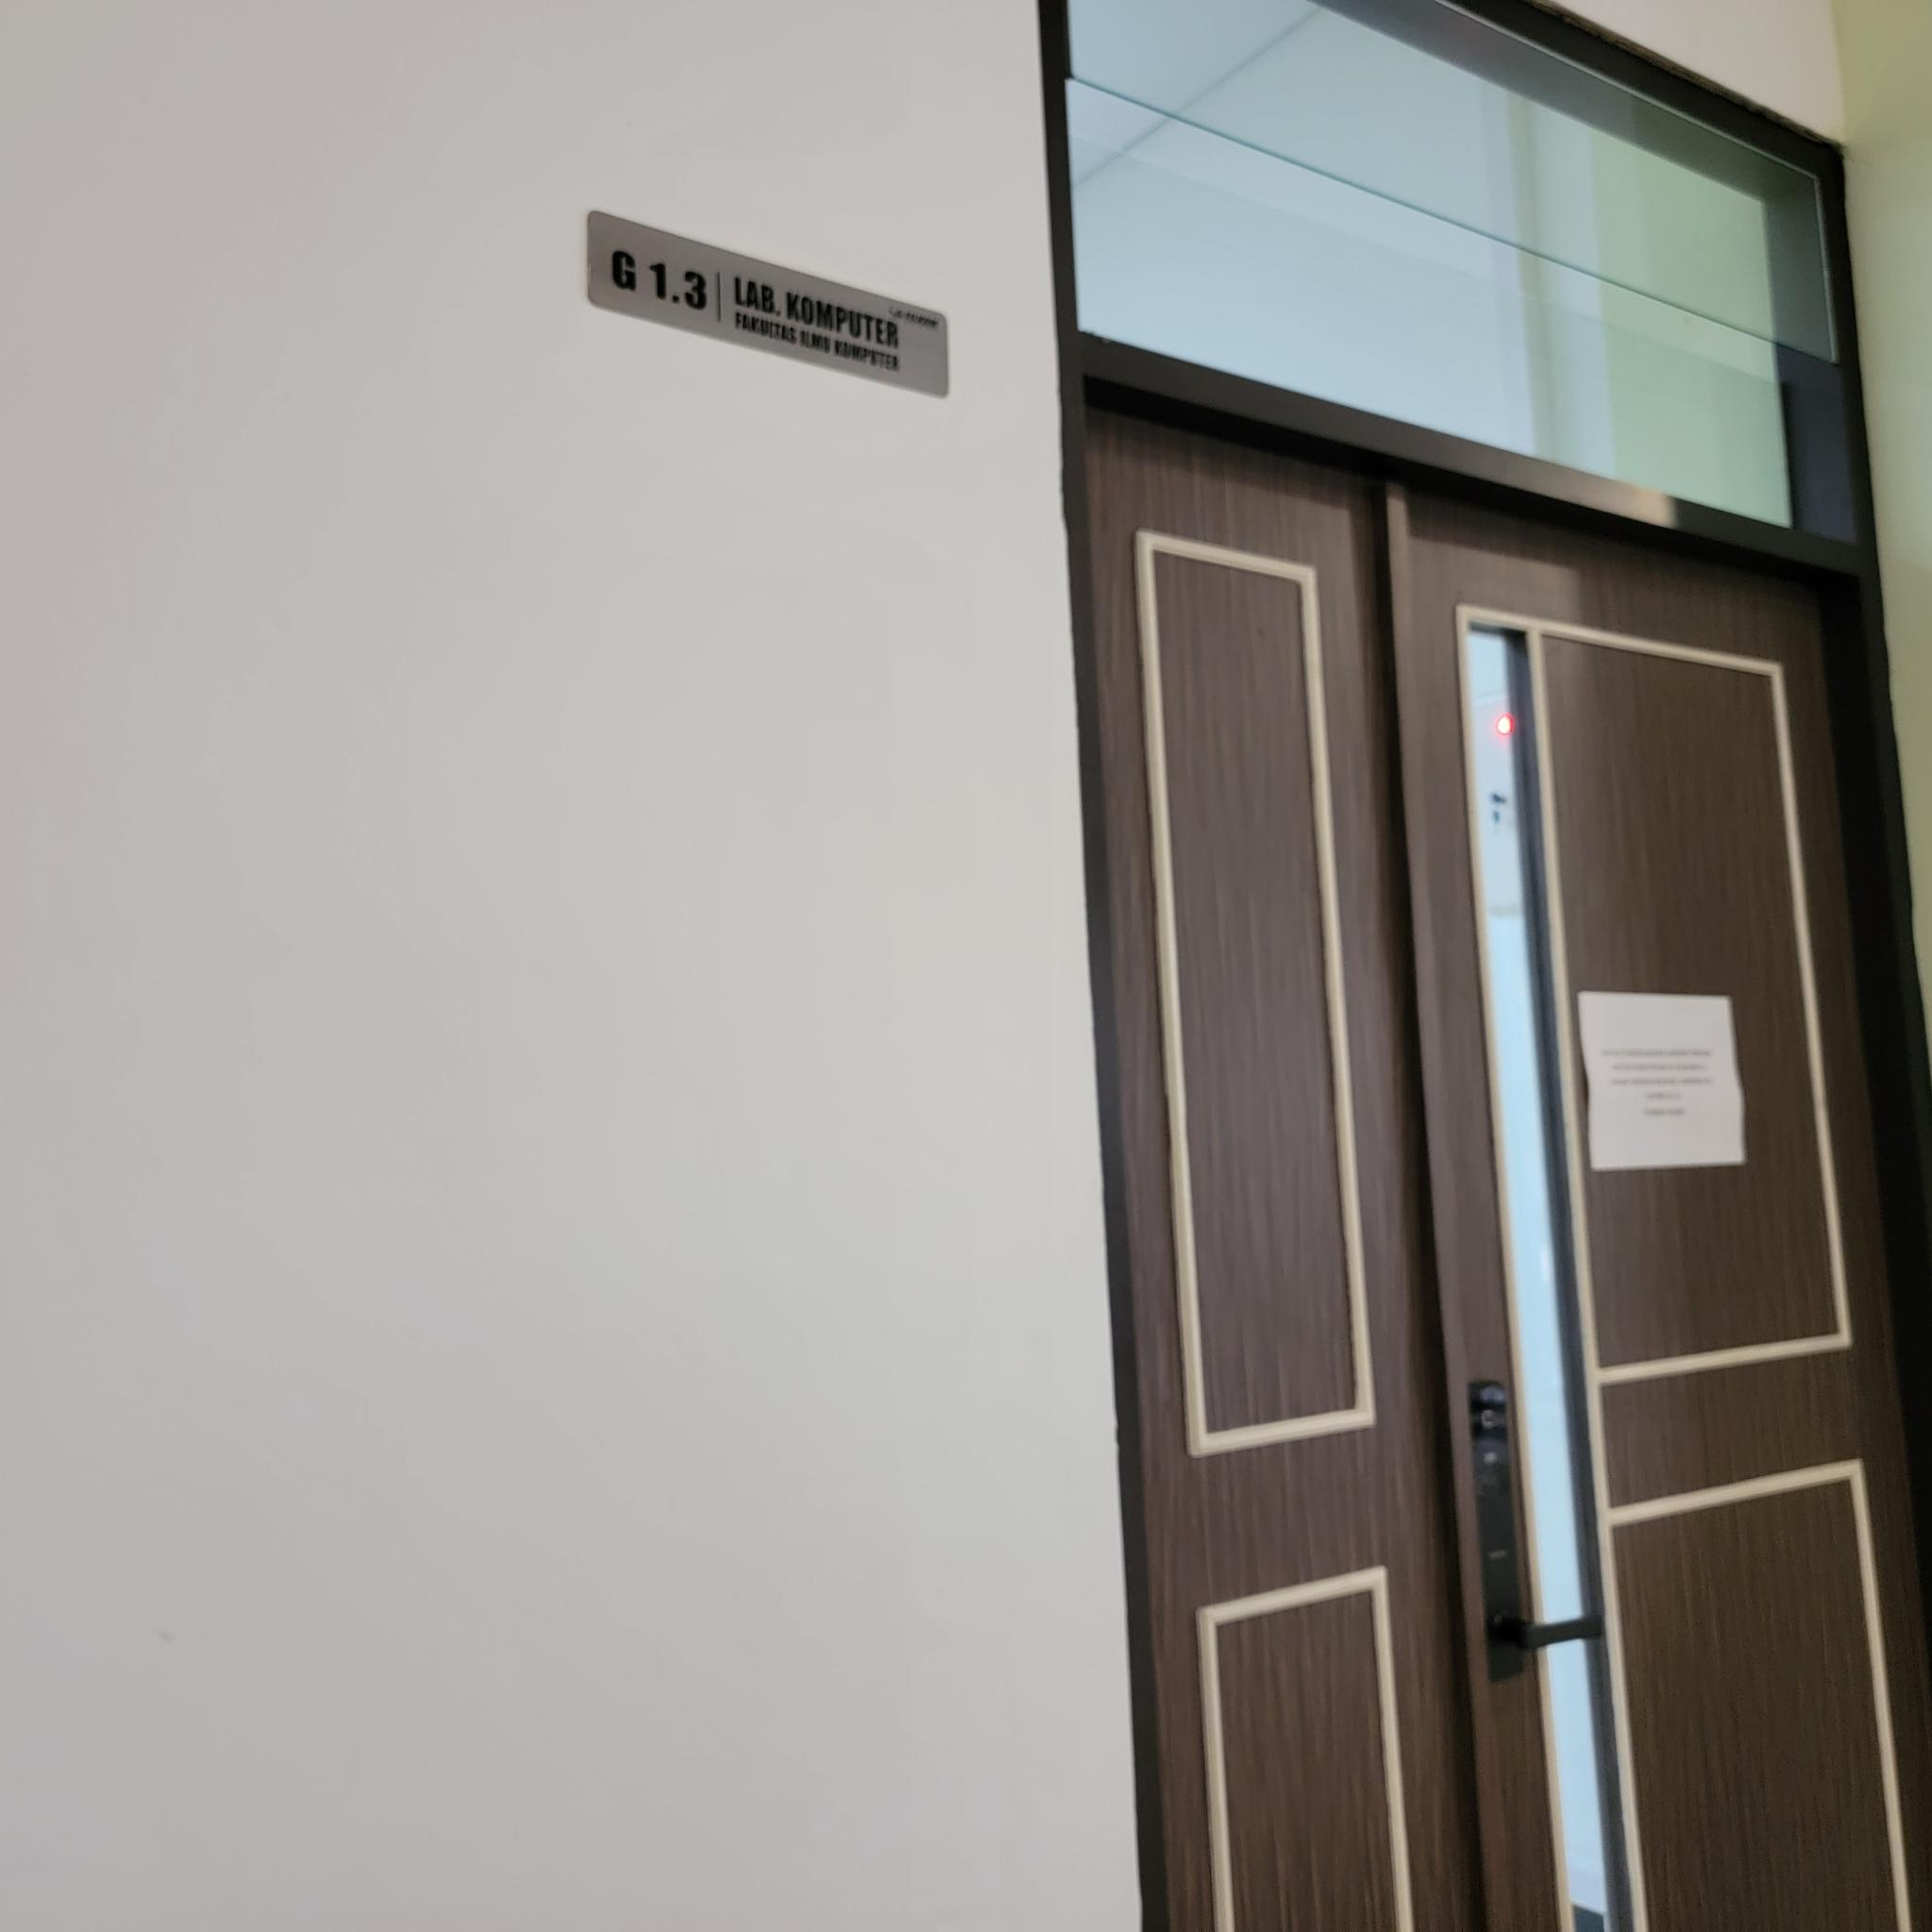plate: (586, 207, 950, 400)
